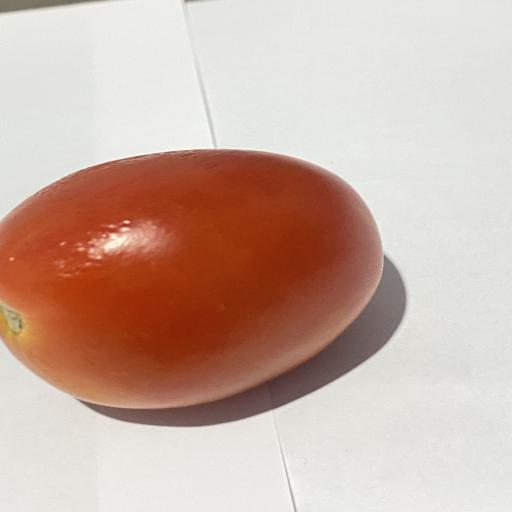spoiled: (0, 150, 383, 408)
